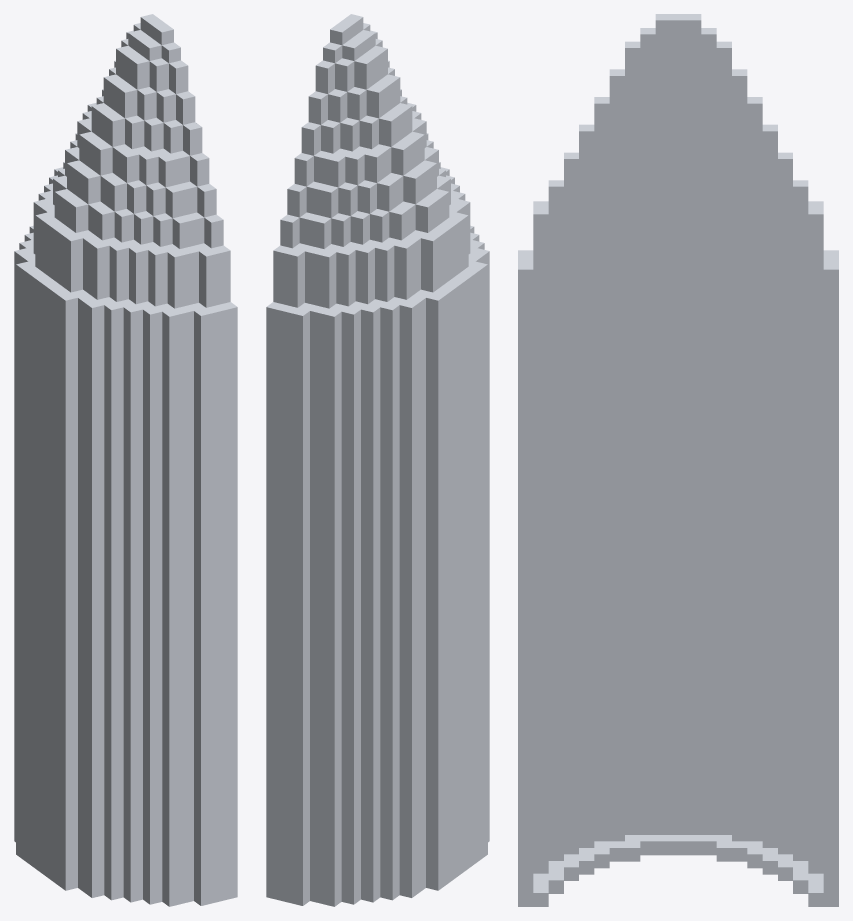
File: Lake_IV_fairing_open.glb
The picture shows the model from 3 angles, left to right: view 1: azimuth 30°, elevation 25°; view 2: azimuth 150°, elevation 25°; view 3: azimuth 270°, elevation 25°; orthographic projection. The views are drawn at different scales.
Visible parts, largest first — view 1: ObjObject.015; view 2: ObjObject.015; view 3: ObjObject.015.
Boxes of the visible parts, bbox=[...] form: ObjObject.015: bbox=[14, 14, 237, 906]; ObjObject.015: bbox=[266, 14, 489, 906]; ObjObject.015: bbox=[518, 14, 838, 906].
Bounding box in the file's own units: 1 × 6.4 × 2.1.
Materials: 1 (1 with a texture image).
